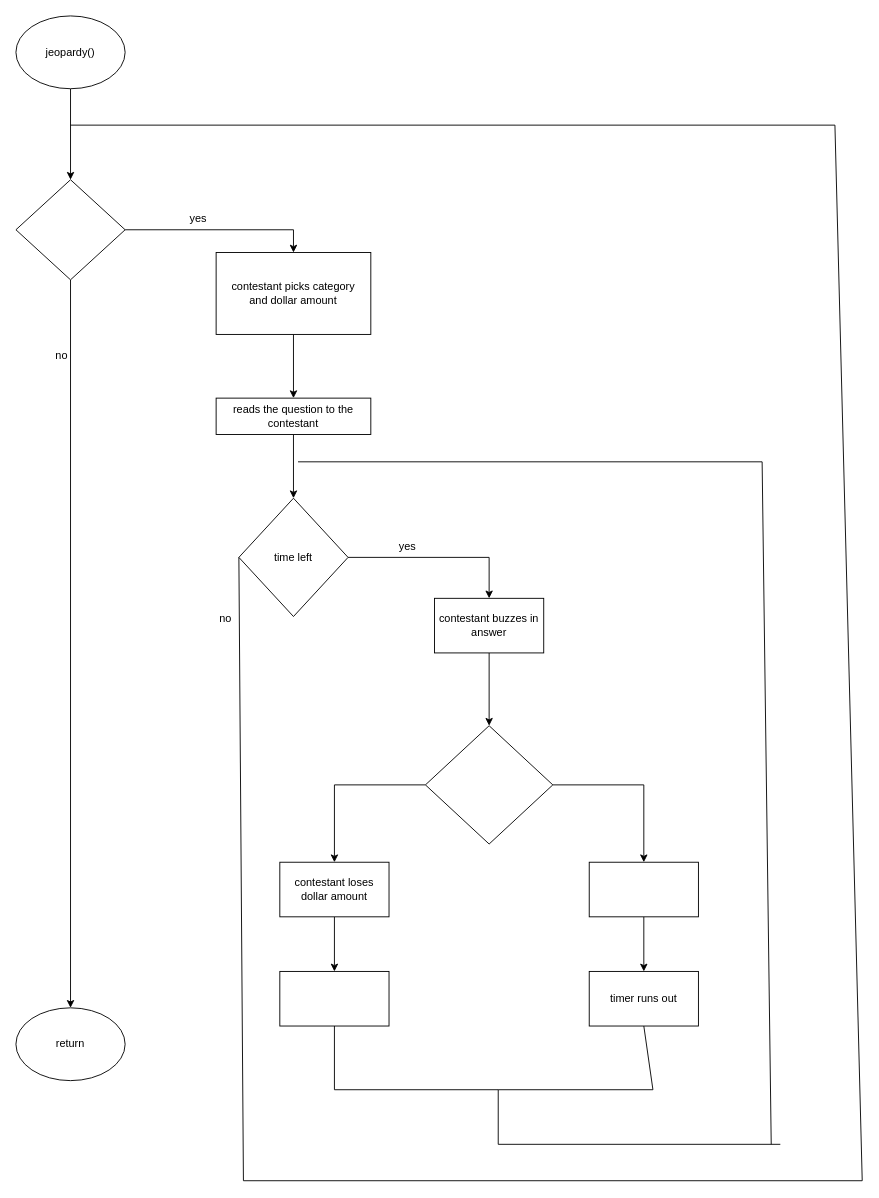
Some shapes in this 879 by 1198 pixel diagram are drawn without their labels. The centre of each missing label's shape, as x and y in pixels:
answer correct?: (x=489, y=784)
any questions available?: (x=70, y=229)
contestant earns dollar amount: (x=643, y=889)
time decreases: (x=334, y=998)
